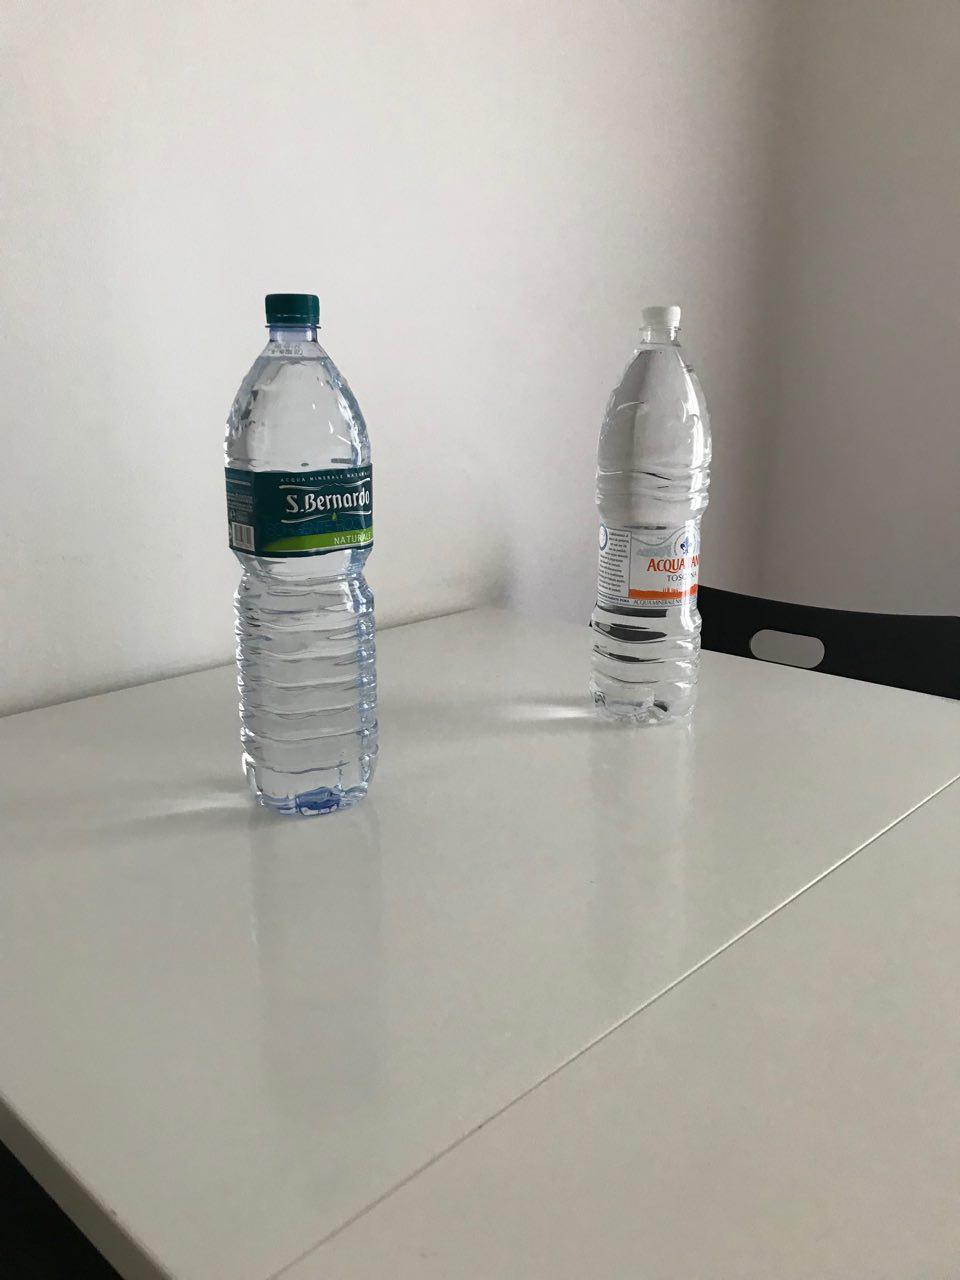san_bernardo: (224, 292, 381, 816)
